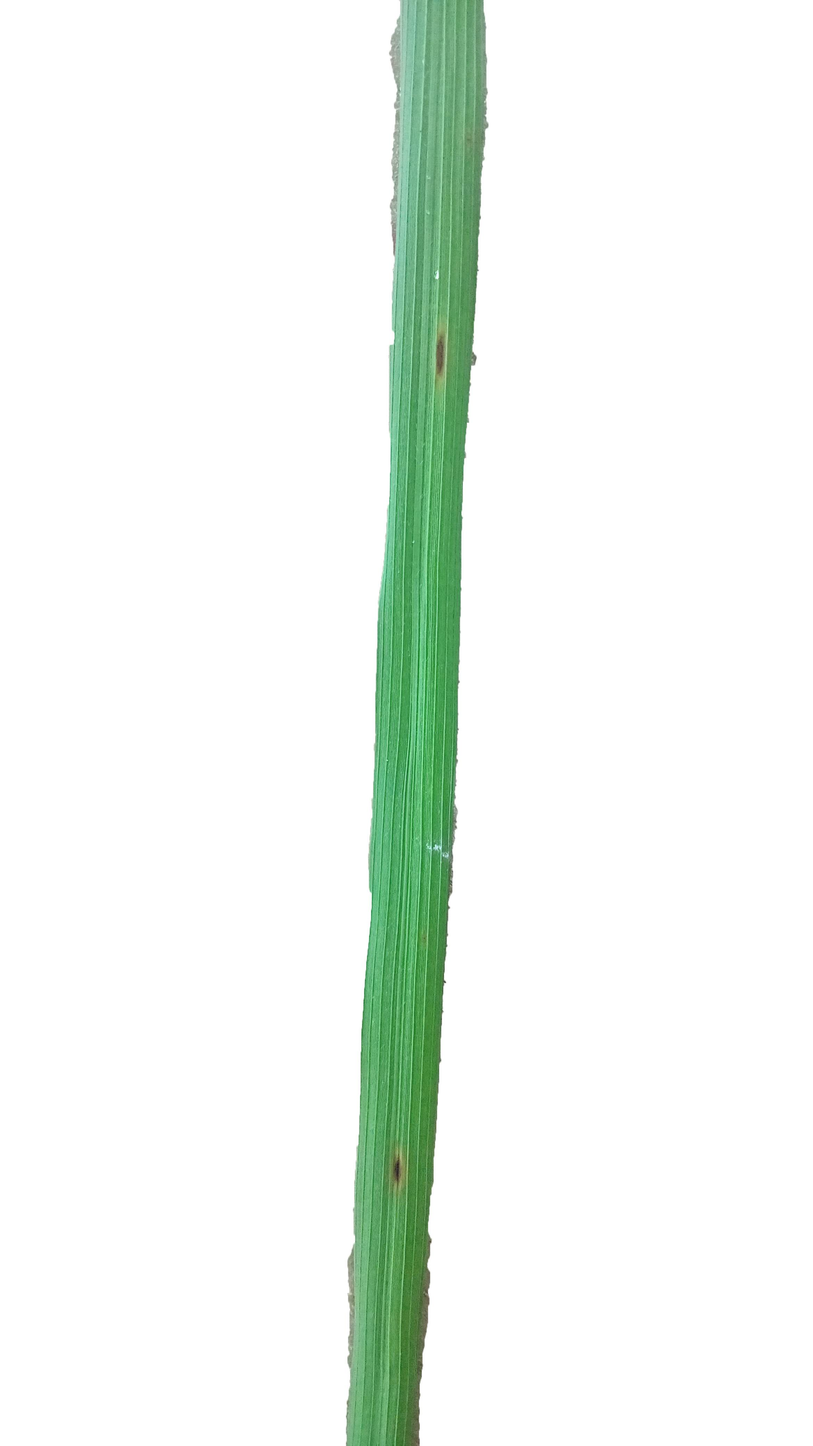Brown spot: (424, 317, 455, 406), (382, 1138, 410, 1208)
